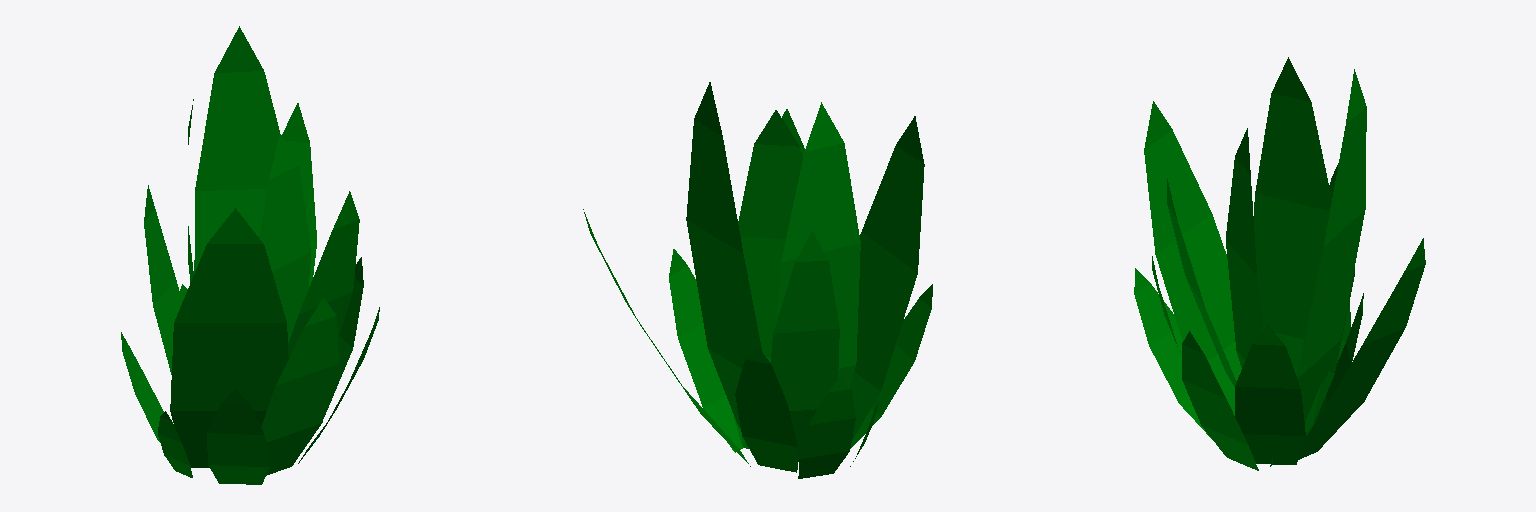
File: grass-bush-single.obj
The picture shows the model from 3 angles: view 1: azimuth 30°, elevation 25°; view 2: azimuth 150°, elevation 25°; view 3: azimuth 270°, elevation 25°; orthographic projection.
Visible parts, largest first — view 1: Group_0; view 2: Group_0; view 3: Group_0.
Boxes of the visible parts, <box> form: Group_0: <box>121,26,379,484</box>; Group_0: <box>583,82,932,478</box>; Group_0: <box>1134,57,1425,470</box>.
Bounding box in the file's own units: 159 × 260 × 174.